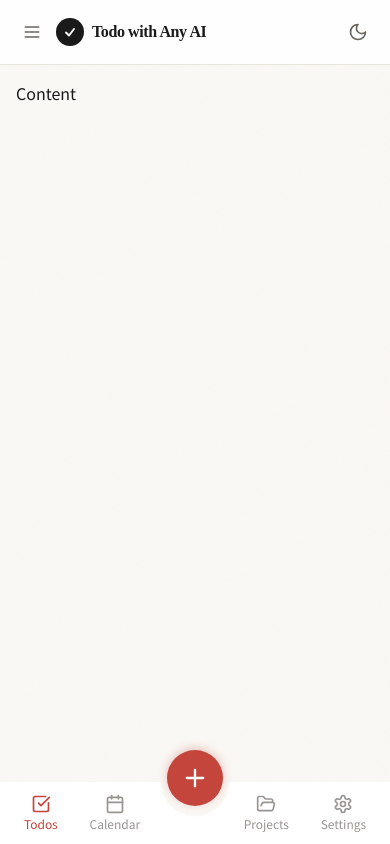
Test: AppLayout - Sidebar integration › should close sidebar when backdrop is clicked
# Open sidebar
Click the button with test id "hamburger-button" at (32,32), box x1=16 y1=16 x2=48 y2=48
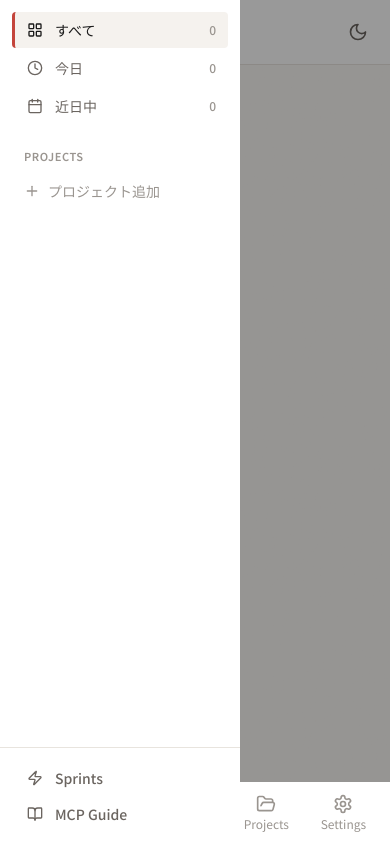
expect the element with test id "sidebar-backdrop" is shown: met
# Close sidebar
Click the element with test id "sidebar-backdrop" at (367,422), box x1=0 y1=0 x2=389 y2=843
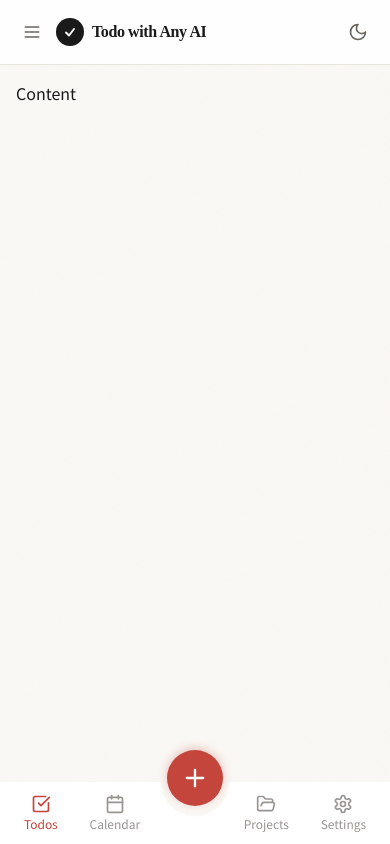
expect the element with test id "sidebar-backdrop" is gone: met
